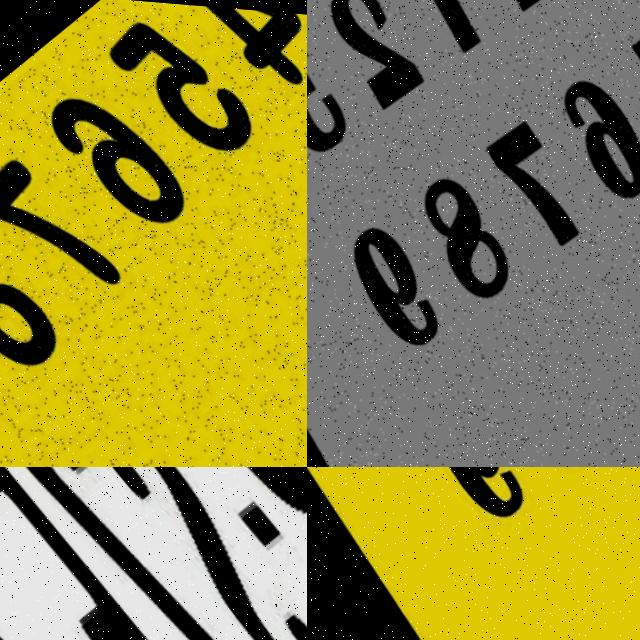1: (352, 0, 536, 81)
2: (307, 0, 462, 128)
3: (307, 0, 391, 181)
4: (136, 0, 307, 121)
5: (73, 0, 291, 197), (585, 0, 640, 175)
6: (8, 43, 223, 268), (519, 35, 640, 216)
7: (0, 467, 307, 640), (0, 471, 262, 640), (448, 86, 631, 279), (0, 128, 160, 346)
8: (369, 129, 554, 322), (0, 175, 88, 404)
9: (307, 185, 490, 382), (390, 467, 566, 551), (0, 246, 30, 467)
A: (206, 467, 307, 609)
E: (0, 467, 307, 640)
L: (151, 467, 307, 640)
P: (88, 467, 307, 640)
S: (2, 467, 307, 640)
Z: (0, 524, 221, 640)
